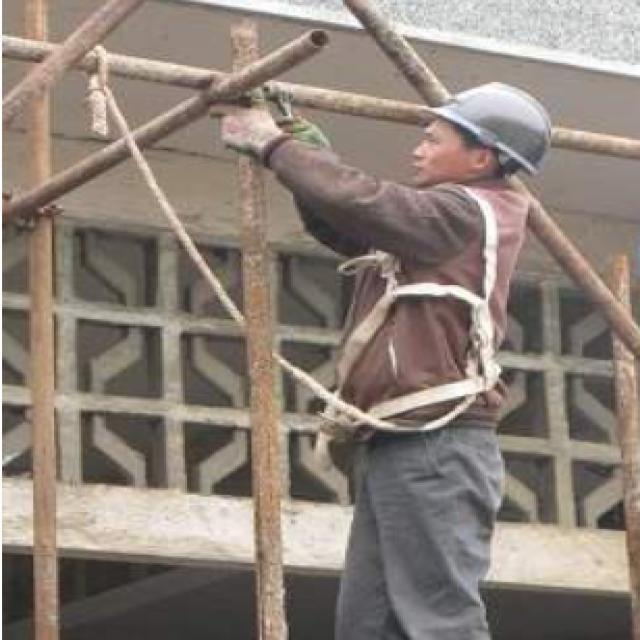Arnes_seguridad: (312, 172, 511, 432)
